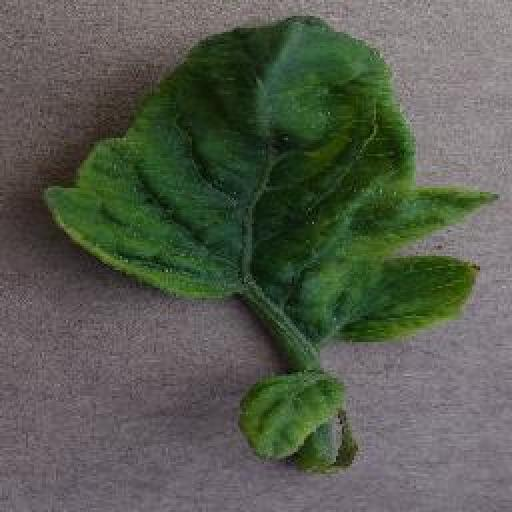Yellow Leaf Curl Virus: (42, 11, 502, 349), (234, 368, 350, 465)
